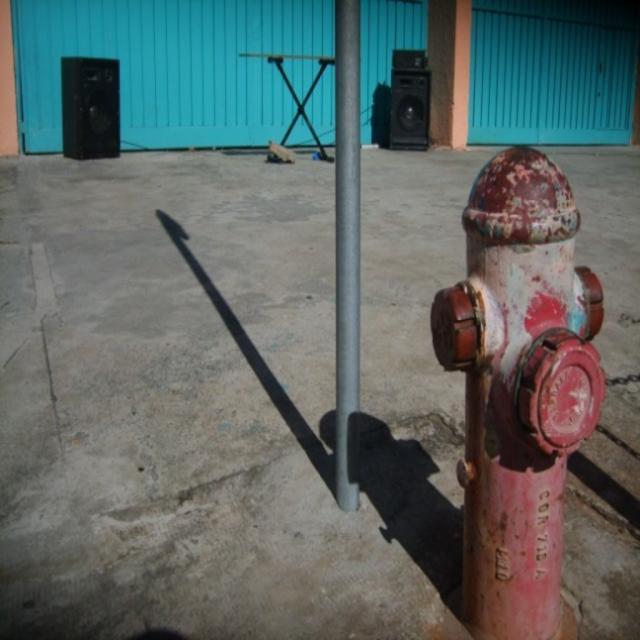fire_hydrant: (428, 148, 604, 639), (432, 144, 604, 639)
